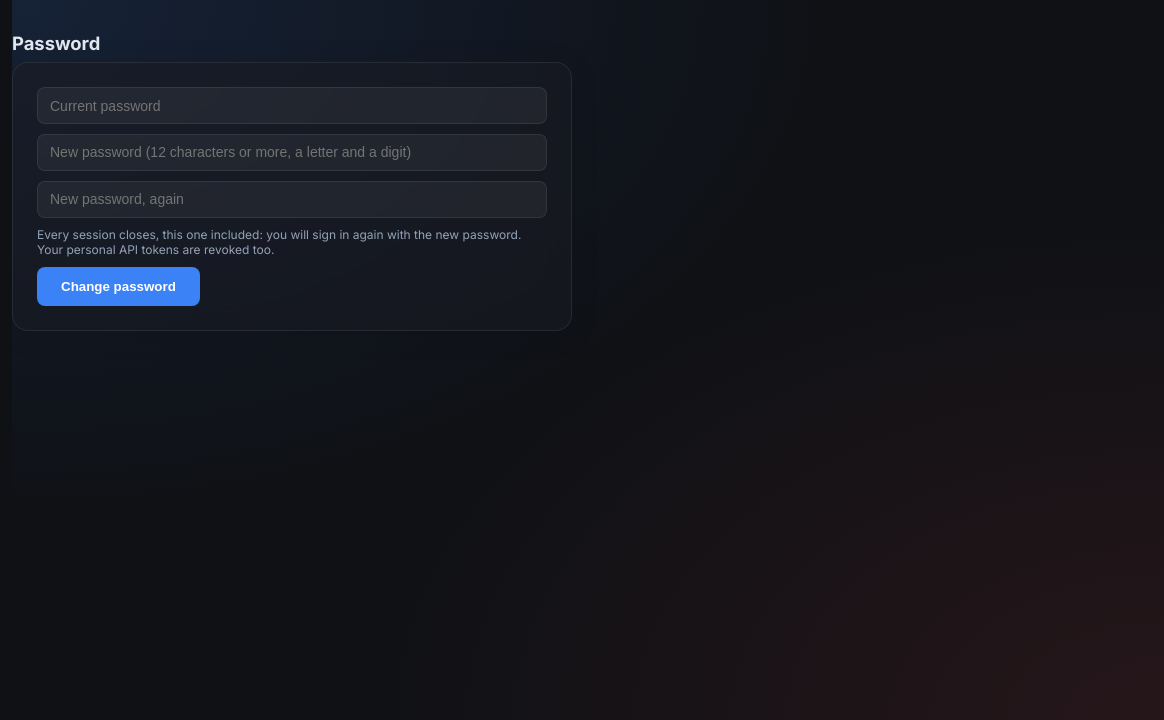
Scenario: ChangePassword › stays signed in when the current password is wrong
This screenshot has width=1164, height=720.
Type "old-passw0rd-123" into the password field labelled "Current password".
click(292, 106); type("old-passw0rd-123")  # box 37,87 -> 547,124
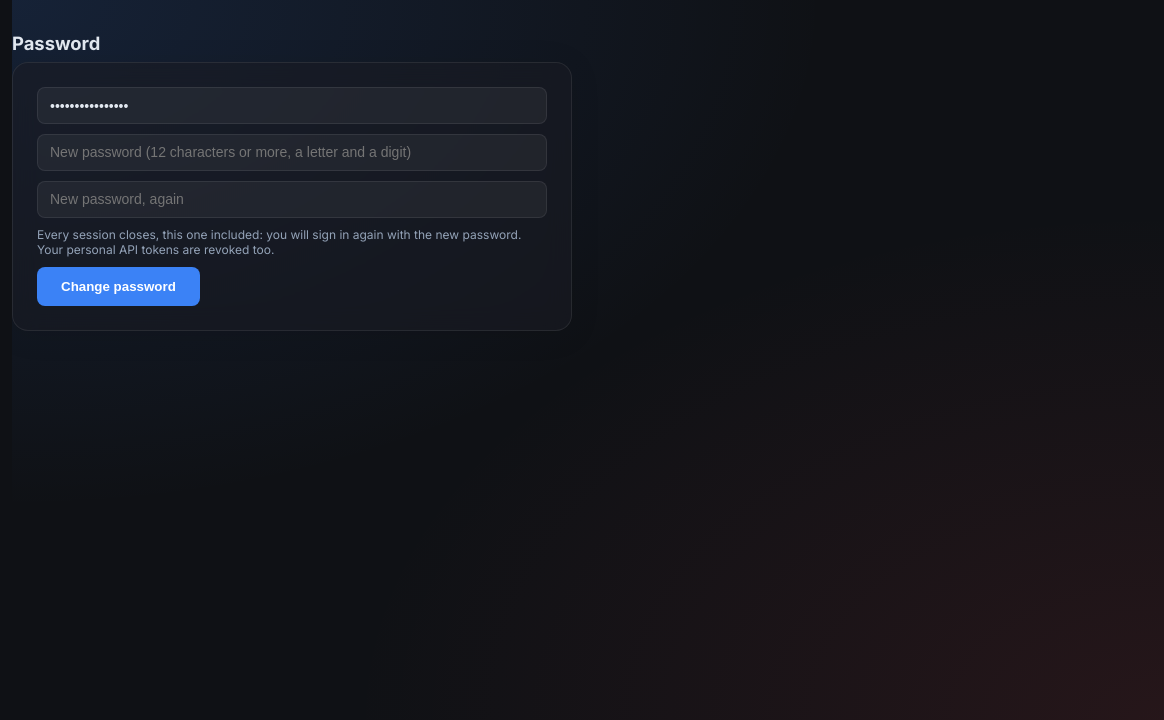
Type "brand-new-passw0rd" into the password field labelled "New password".
click(292, 152); type("brand-new-passw0rd")  # box 37,134 -> 547,171
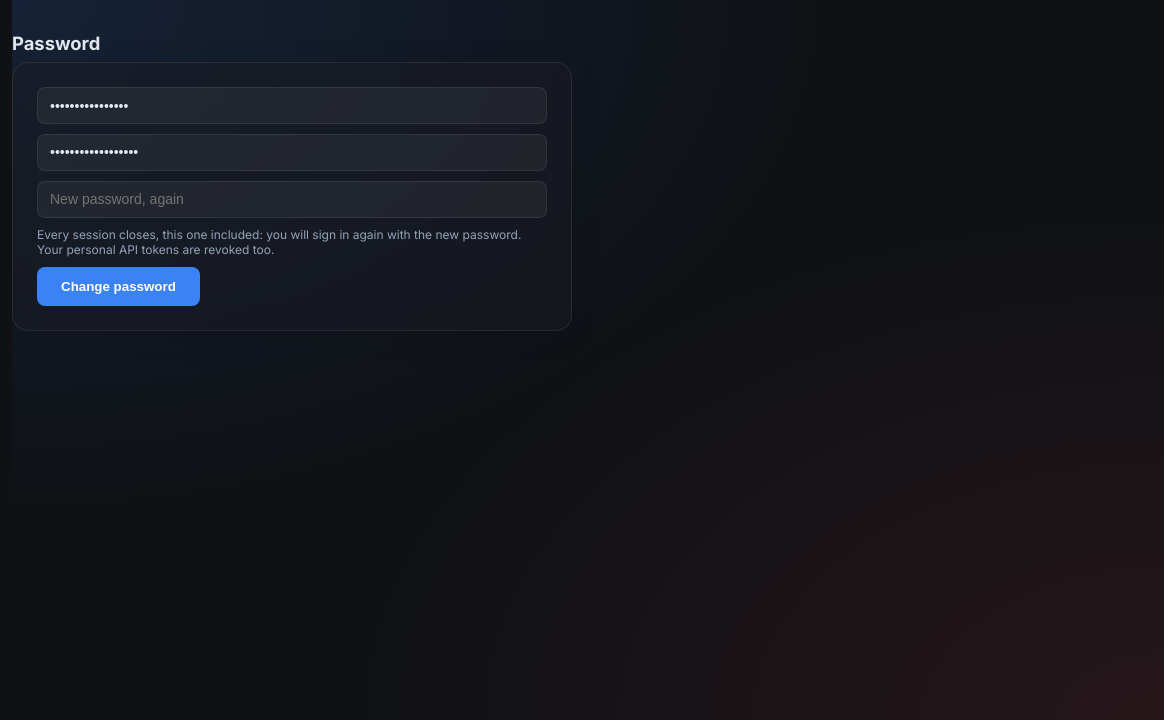
Type "brand-new-passw0rd" into the password field labelled "New password, again".
click(292, 199); type("brand-new-passw0rd")  # box 37,181 -> 547,218
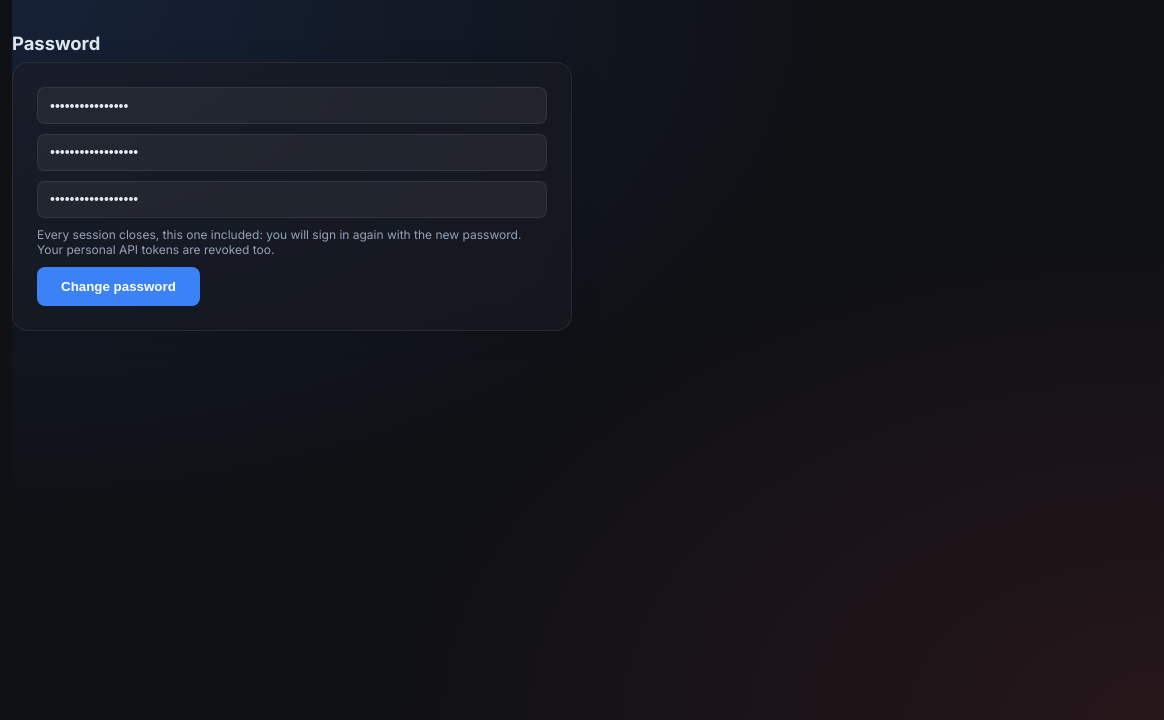
Click the button "Change password".
click(118, 286)  # box 37,267 -> 200,306
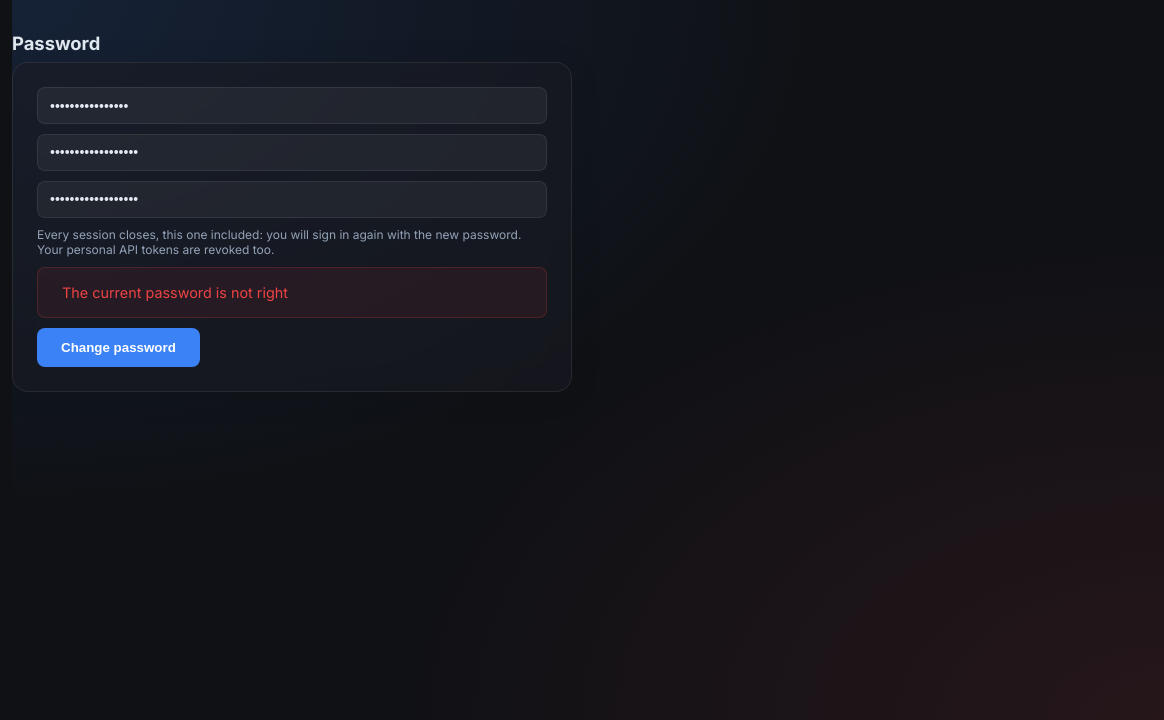
Now the text "The current password is not right" is shown, box 37,267 -> 547,318
